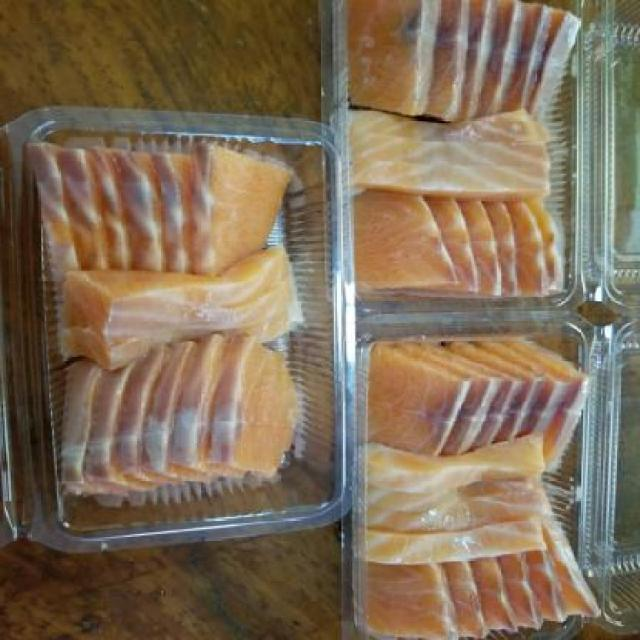salmon: (20, 108, 318, 536), (369, 308, 605, 638), (346, 6, 582, 295)
